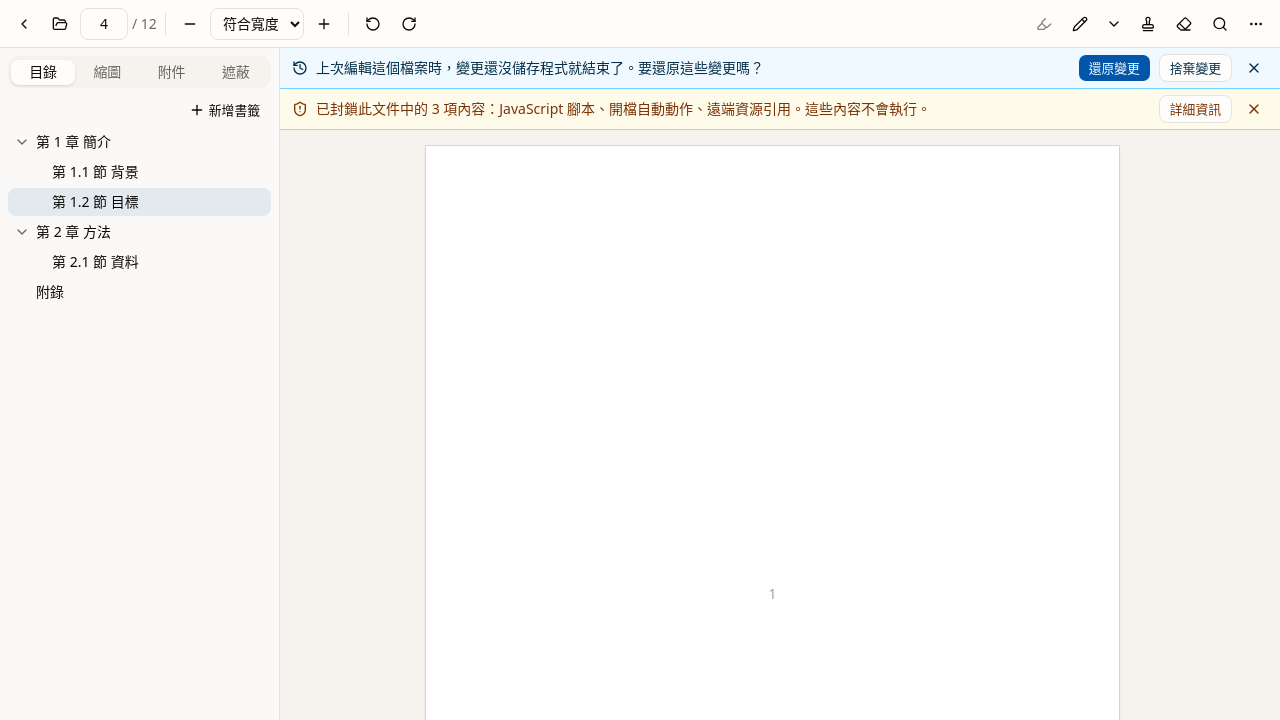
changes an earlier run left (B2-13) › can be left for later, without an answer
Click the button named "稍後再決定" at (1254, 68), box [1240,54,1268,82]
(page scrolled)
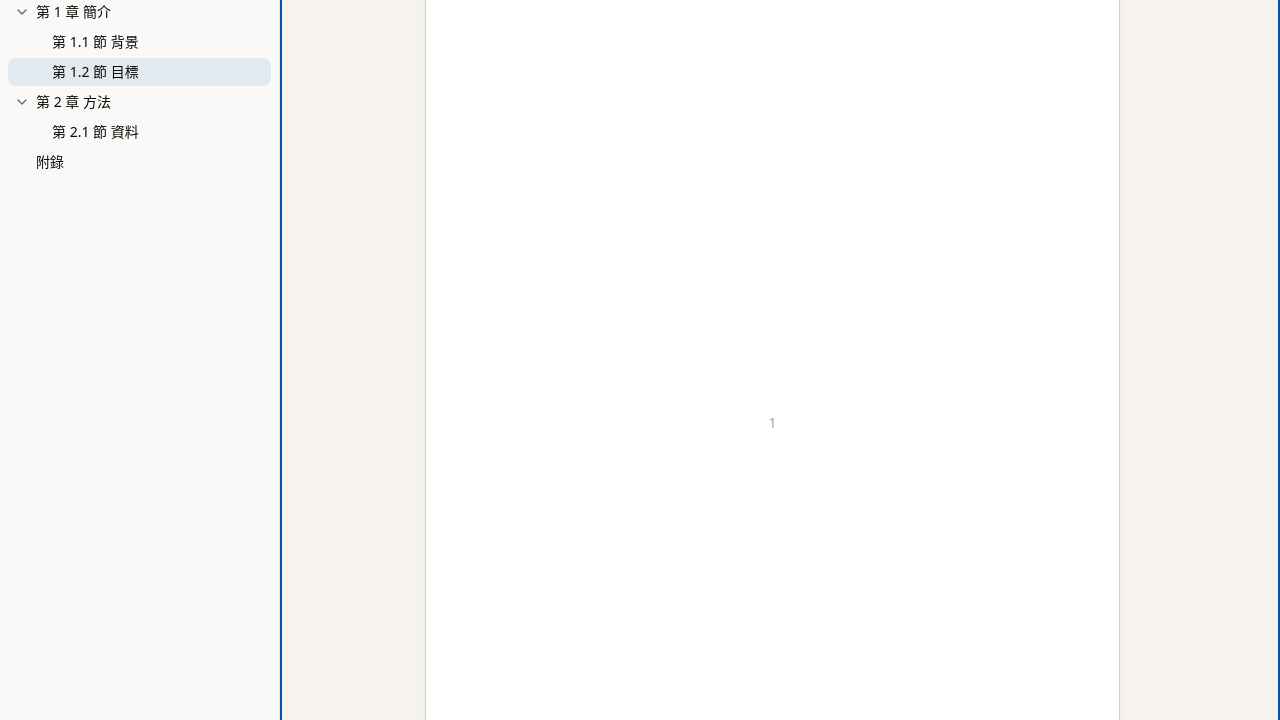
Check: the element "上次未儲存的變更" is gone
